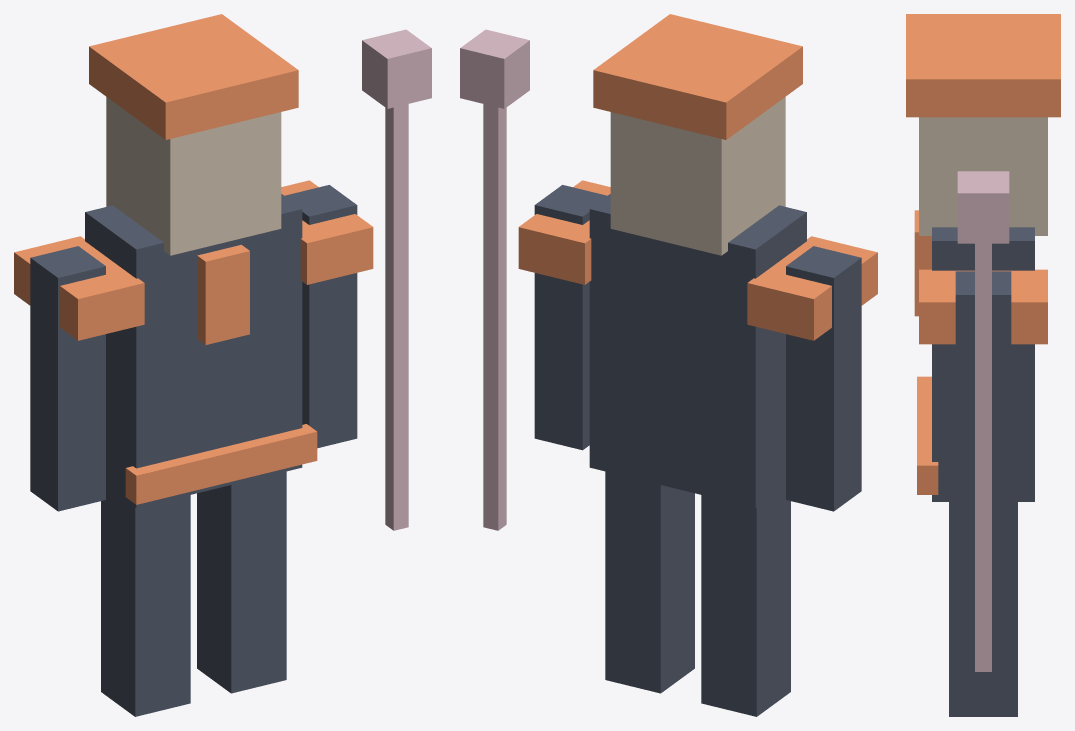
File: 12_rook_ashvein_custodian_under_stabilizer.glb
3 views of the same model, side by side, from view 1: azimuth 30°, elevation 25°; view 2: azimuth 150°, elevation 25°; view 3: azimuth 270°, elevation 25° (orthographic).
Visible parts, largest first — view 1: Rook Ashvein, Custodian under Stabilizer; view 2: Rook Ashvein, Custodian under Stabilizer; view 3: Rook Ashvein, Custodian under Stabilizer.
Boxes of the visible parts, x1,y1,x2,y2 form: Rook Ashvein, Custodian under Stabilizer: (14,14,431,716); Rook Ashvein, Custodian under Stabilizer: (460,14,877,716); Rook Ashvein, Custodian under Stabilizer: (906,14,1060,716).
Size of the model in its own units: 0.9973 by 1.6 by 0.3537.
